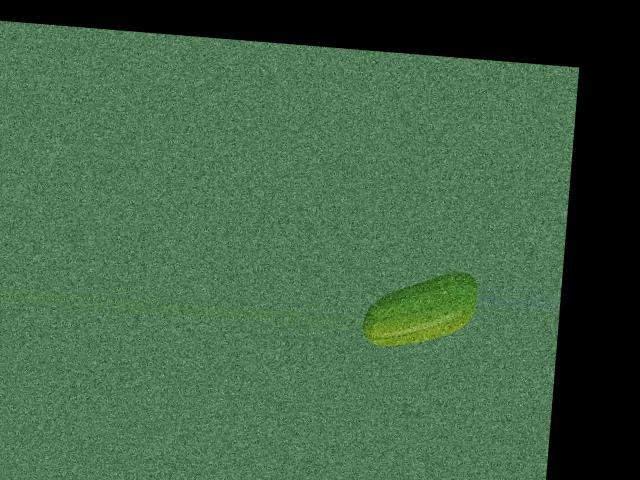cucumber: (361, 264, 479, 352)
